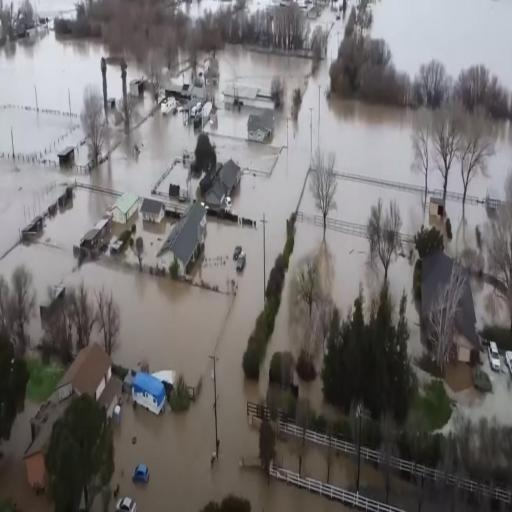flood: (0, 47, 429, 510), (372, 0, 512, 88), (0, 32, 101, 109), (326, 218, 384, 317), (329, 178, 425, 234), (0, 107, 83, 156), (468, 119, 512, 199), (390, 245, 421, 347), (310, 0, 356, 67), (433, 144, 464, 190), (29, 0, 79, 18), (300, 177, 320, 213), (13, 0, 21, 9)
house: (420, 250, 480, 370), (155, 201, 207, 277), (58, 344, 113, 399), (205, 159, 247, 216), (1, 0, 39, 48), (246, 108, 276, 145), (110, 190, 138, 224), (80, 218, 108, 248), (141, 198, 165, 224), (430, 195, 445, 219)
